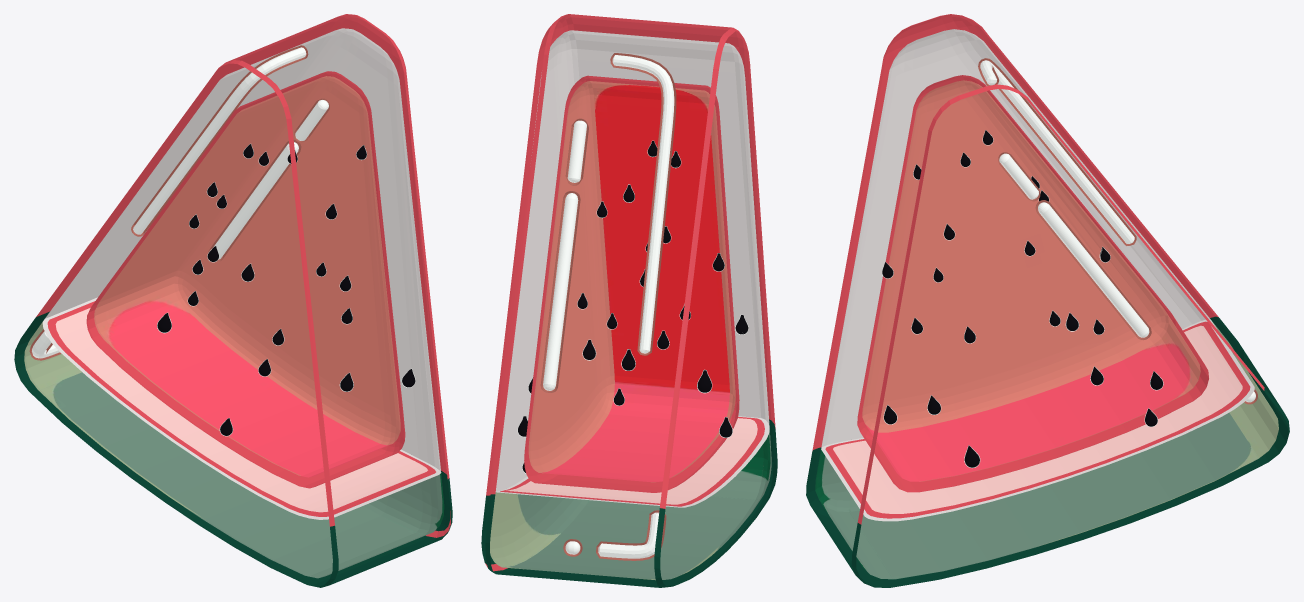
Rendered from watermelon-transformed.glb.
3 views of the same model, side by side, from view 1: azimuth 30°, elevation 25°; view 2: azimuth 150°, elevation 25°; view 3: azimuth 270°, elevation 25° (orthographic). The views are drawn at different scales.
Visible parts, largest first — view 1: watermelon; view 2: watermelon; view 3: watermelon.
Part boxes in pixels (bbox=[...]): watermelon: bbox=[14, 14, 452, 587]; watermelon: bbox=[481, 14, 777, 587]; watermelon: bbox=[806, 14, 1289, 587].
Bounding box in the file's own units: 1.27 × 2.35 × 2.06.
4 materials, 4 textured.
